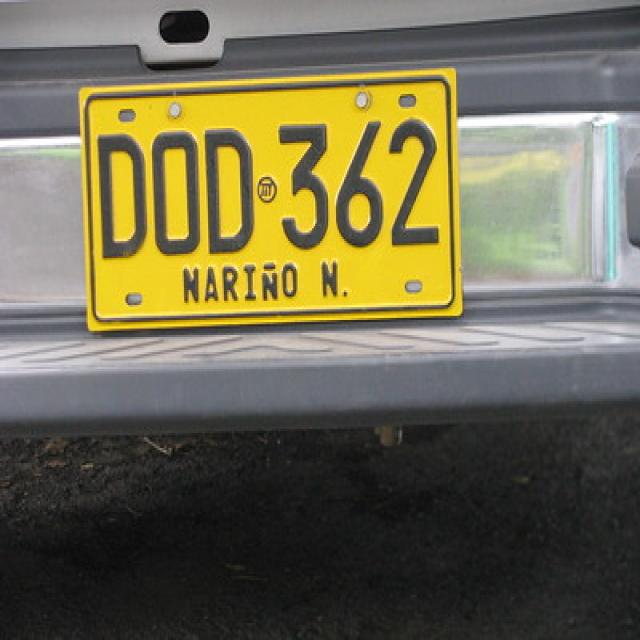placa_carro: (80, 65, 466, 332)
